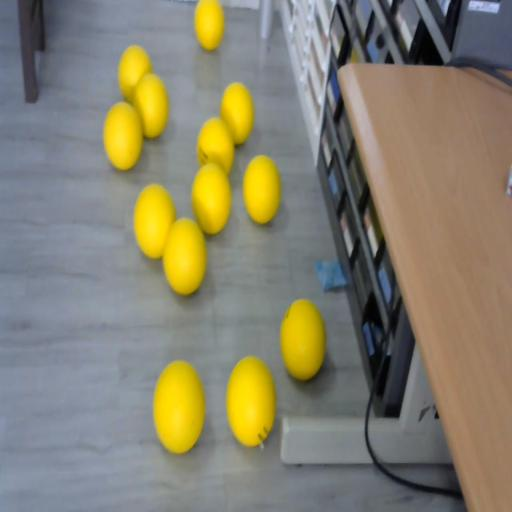FUEL: (152, 358, 206, 453), (226, 355, 276, 446), (280, 296, 326, 381), (162, 218, 207, 295), (134, 183, 176, 258), (190, 161, 232, 234), (242, 154, 282, 223), (103, 102, 143, 170), (220, 82, 254, 145), (118, 45, 152, 103), (193, 0, 224, 50)
